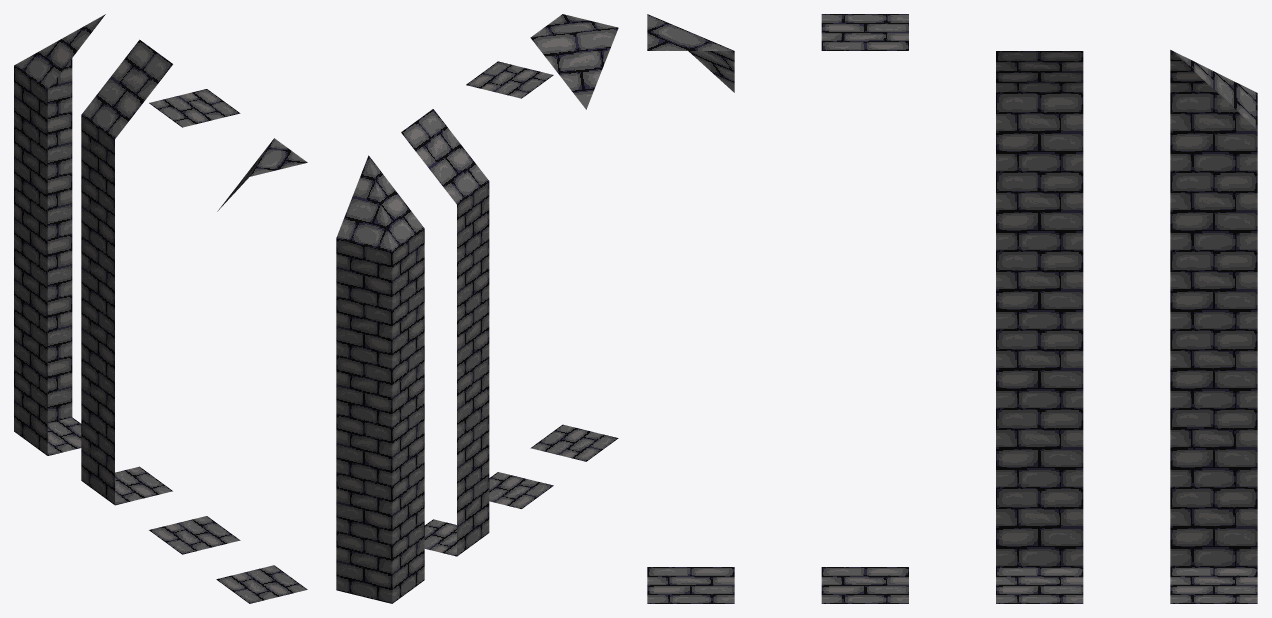
File: tileset.glb
3 views of the same model, side by side, from view 1: azimuth 30°, elevation 25°; view 2: azimuth 150°, elevation 25°; view 3: azimuth 270°, elevation 25° (orthographic). The views are drawn at different scales.
Visible parts, largest first — view 1: corner-col, wall-col, mid-col, o_corner-col; view 2: corner-col, wall-col, o_corner-col, mid-col; view 3: wall-col, corner-col, mid-col, o_corner-col.
Part boxes in pixels (left/top/right/bottom): corner-col: left=14, top=14, right=105, bottom=455; wall-col: left=81, top=39, right=172, bottom=505; mid-col: left=149, top=89, right=240, bottom=554; o_corner-col: left=216, top=138, right=307, bottom=603; corner-col: left=336, top=155, right=424, bottom=603; wall-col: left=401, top=109, right=489, bottom=556; o_corner-col: left=530, top=14, right=618, bottom=461; mid-col: left=466, top=61, right=553, bottom=508; wall-col: left=996, top=51, right=1083, bottom=603; corner-col: left=1170, top=50, right=1257, bottom=603; mid-col: left=821, top=14, right=908, bottom=603; o_corner-col: left=647, top=14, right=734, bottom=603.
Size of the model in its own units: 2 by 14.03 by 14.
Materials: 1 (1 with a texture image).
